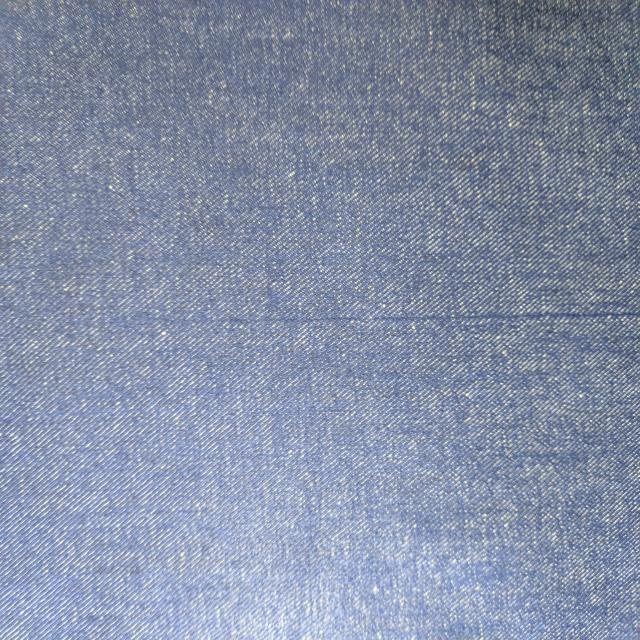Line: (124, 309, 640, 325)
